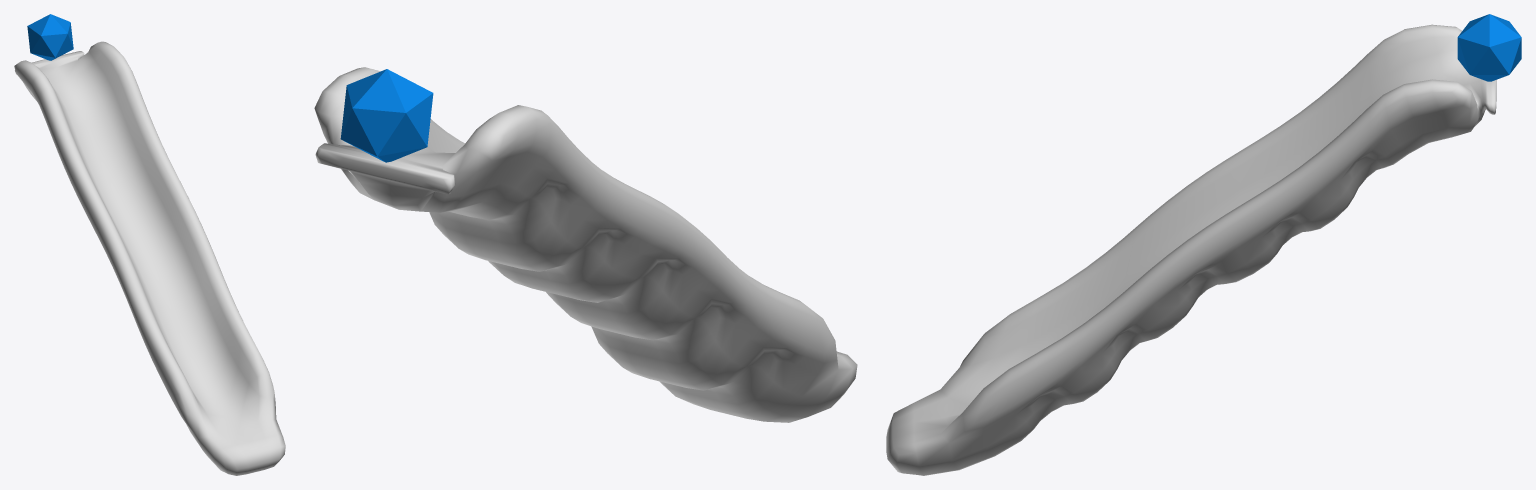
Rendered from 10 scoope wave slide.glb.
3 renders of one model, left to right at view 1: azimuth 30°, elevation 25°; view 2: azimuth 150°, elevation 25°; view 3: azimuth 270°, elevation 25°, orthographic. The views are drawn at different scales.
Parts seen in each view (by area): view 1: Plane.036, Joint.009; view 2: Plane.036, Joint.009; view 3: Plane.036, Joint.009.
Part boxes in pixels (x1,y1,x2,y2): Plane.036: (14, 41, 285, 475); Joint.009: (27, 14, 73, 60); Plane.036: (314, 67, 857, 422); Joint.009: (340, 69, 433, 162); Plane.036: (886, 24, 1496, 475); Joint.009: (1457, 14, 1521, 81).
Size of the model in its own units: 0.6301 by 2.01 by 2.57.
